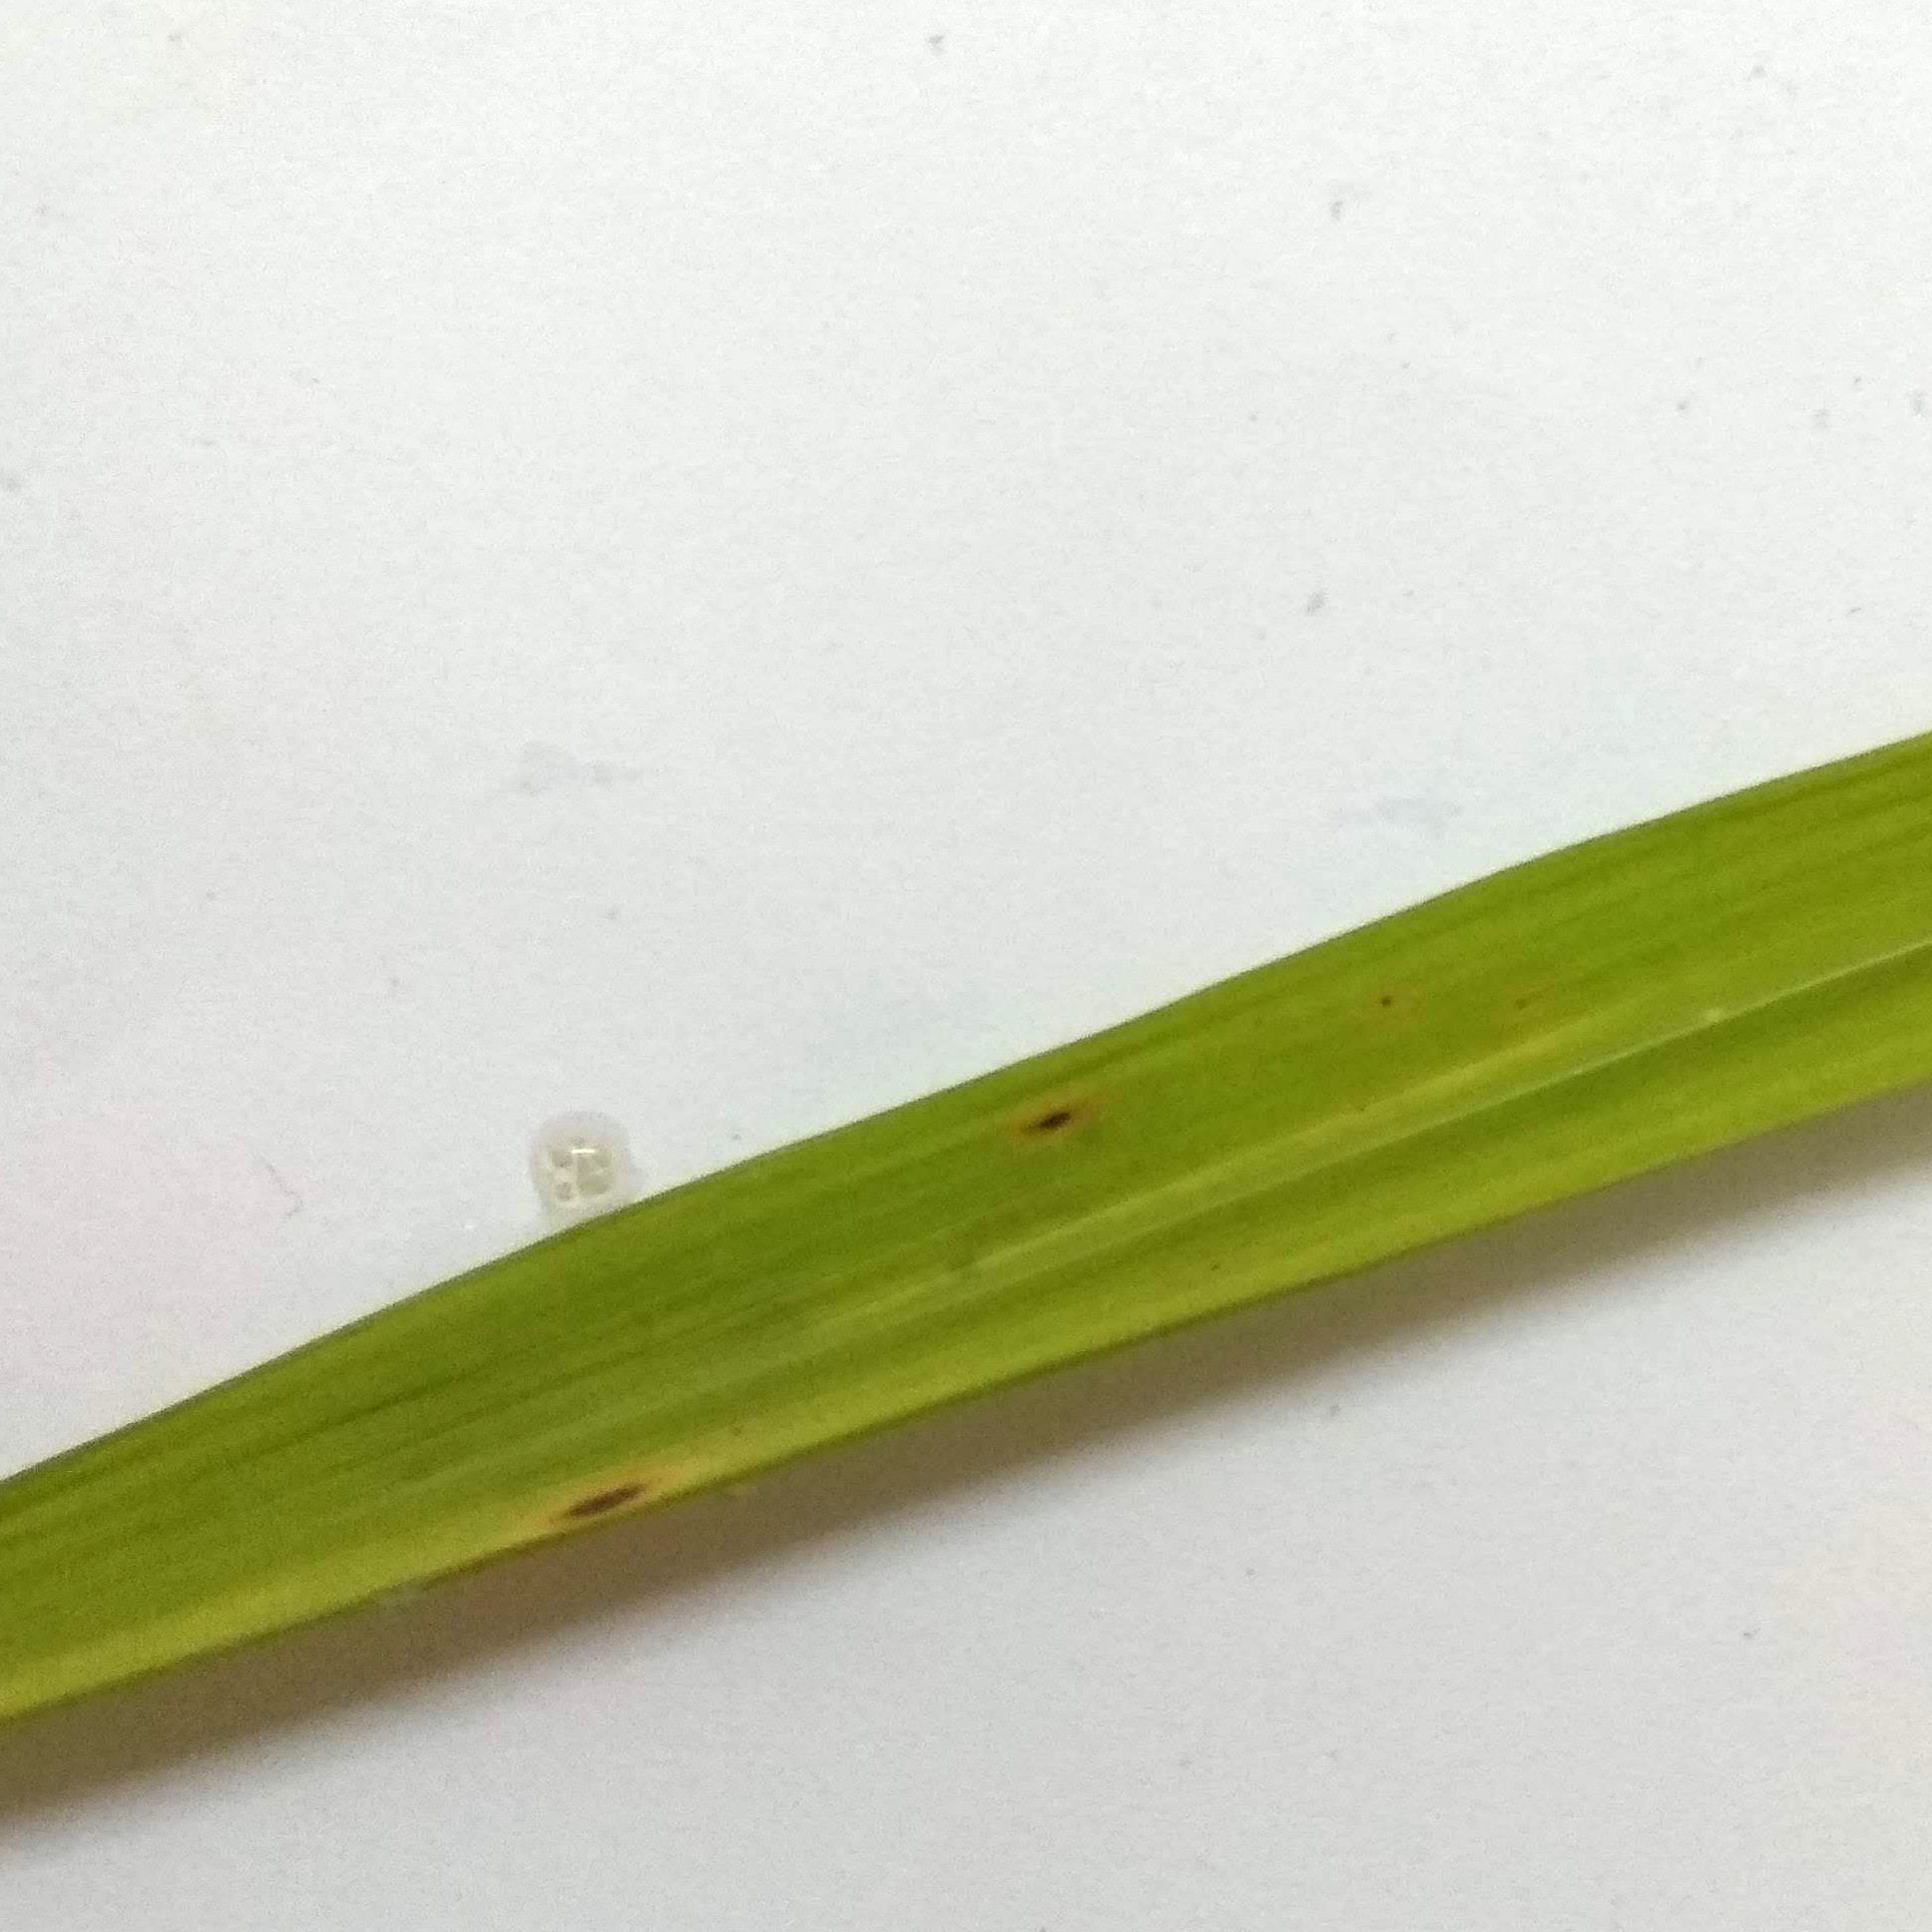brown spot: (536, 1470, 671, 1541), (1014, 1095, 1116, 1157), (1497, 978, 1571, 1033), (1369, 985, 1408, 1017)
